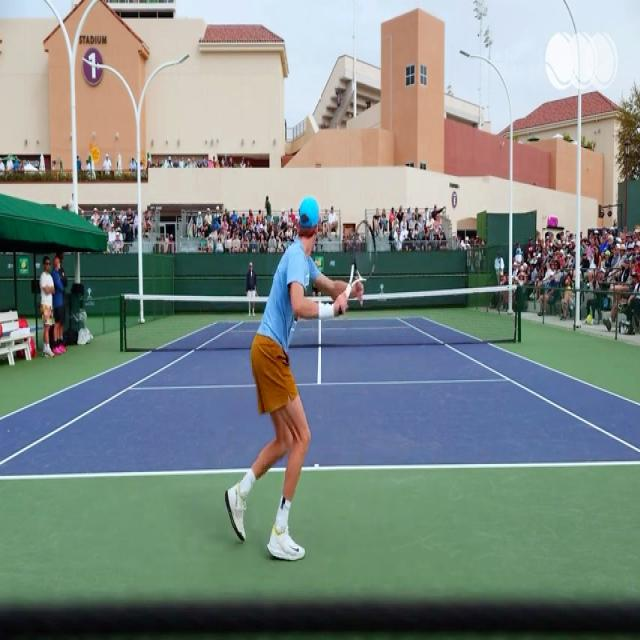forehand-ready: (225, 196, 379, 562)
